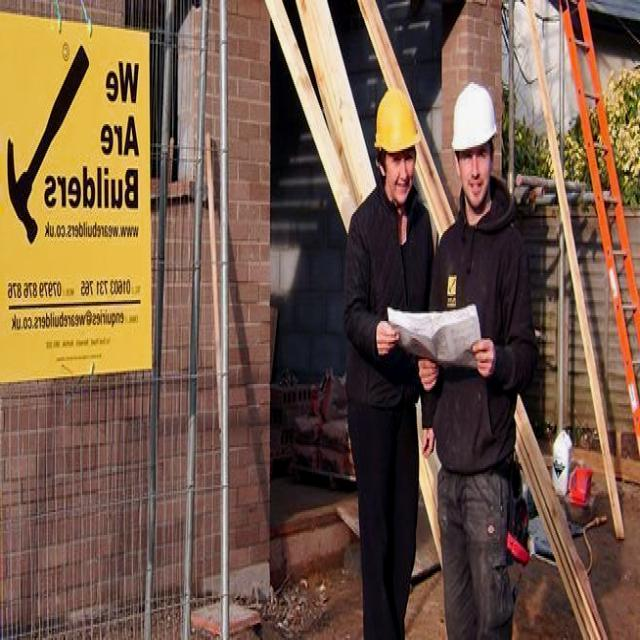face_nomask: (458, 145, 493, 210), (384, 147, 416, 216)
hand_noglove: (467, 330, 499, 390), (414, 413, 445, 462), (371, 308, 399, 359), (416, 346, 442, 395)
head_helmet: (452, 78, 498, 151), (375, 84, 421, 153)
person: (434, 82, 534, 638), (346, 84, 434, 640)
